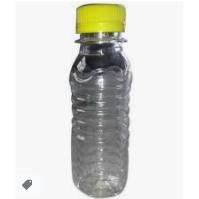plastic_bottle: (70, 2, 134, 196)
